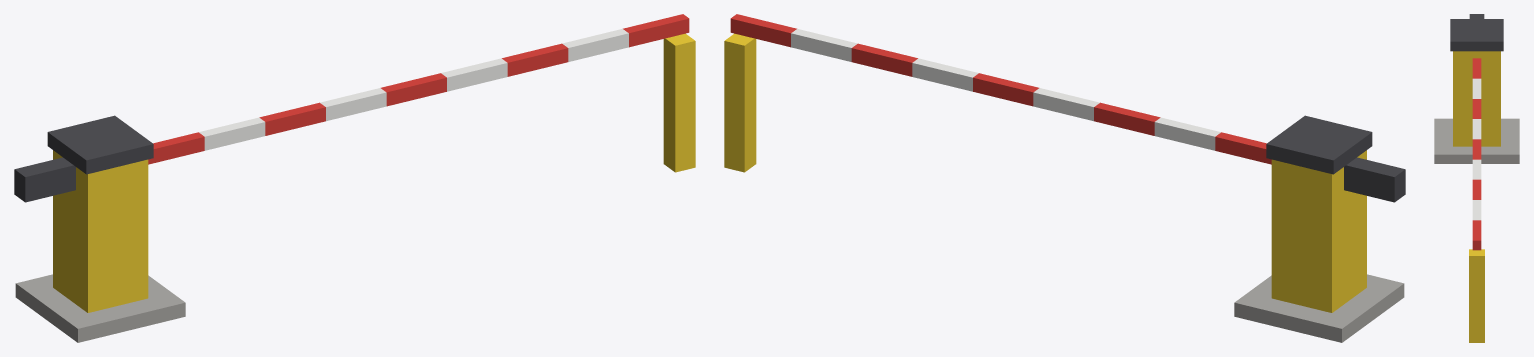
Rendered from EQ_BoomGate.glb.
3 views of the same model, side by side, from view 1: azimuth 30°, elevation 25°; view 2: azimuth 150°, elevation 25°; view 3: azimuth 270°, elevation 25° (orthographic). The views are drawn at different scales.
Visible parts, largest first — view 1: BG_Post, BG_Boom; view 2: BG_Post, BG_Boom; view 3: BG_Post, BG_Boom.
Part boxes in pixels (box(x1,y1,x2,y2)): BG_Post: box(15, 33, 695, 342); BG_Boom: box(14, 14, 689, 202); BG_Post: box(724, 33, 1404, 342); BG_Boom: box(730, 14, 1405, 202); BG_Post: box(1434, 19, 1519, 342); BG_Boom: box(1469, 14, 1484, 250).
Size of the model in its own units: 4.98 by 1.2 by 0.8.
